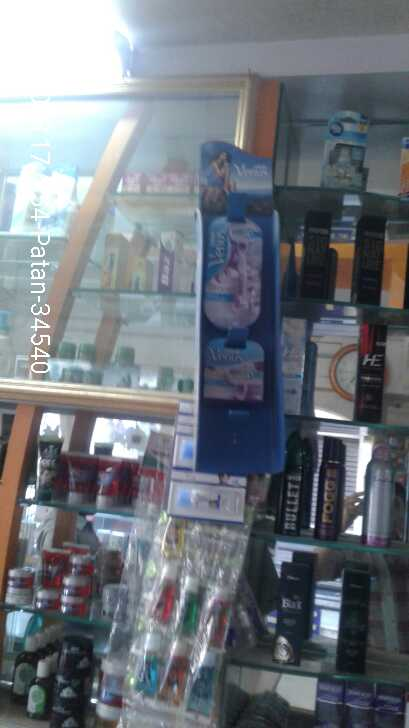venus: (205, 214, 266, 328)
